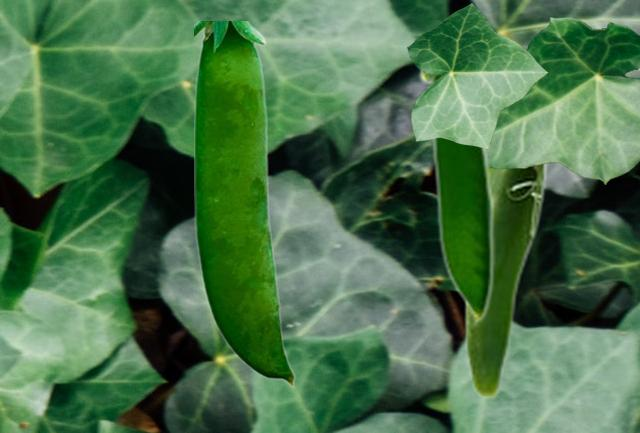pea: (194, 21, 294, 387), (463, 164, 553, 399), (417, 70, 494, 327)
